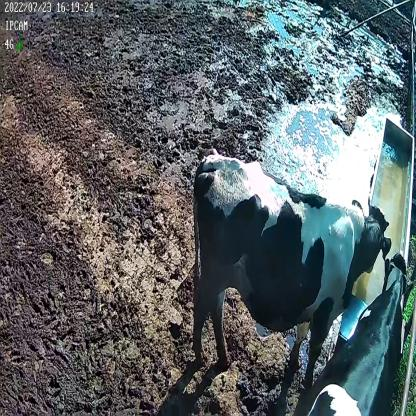cow: (193, 149, 394, 385), (301, 249, 415, 414)
